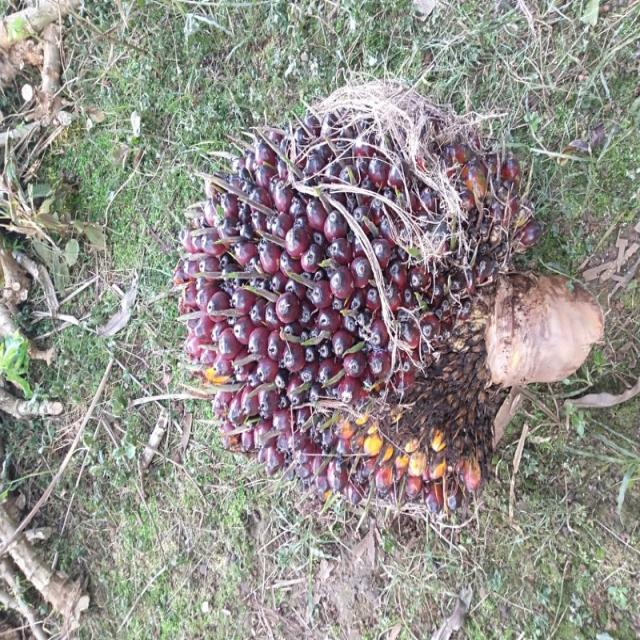fraksi 1: (149, 66, 601, 550)
